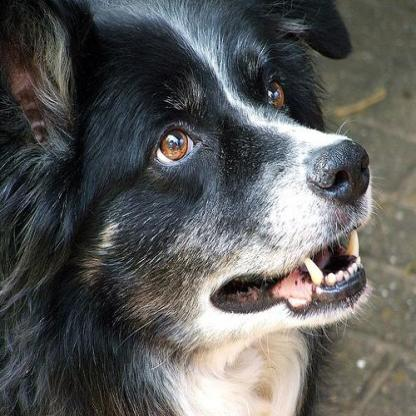Border_collie: (0, 0, 382, 413)
